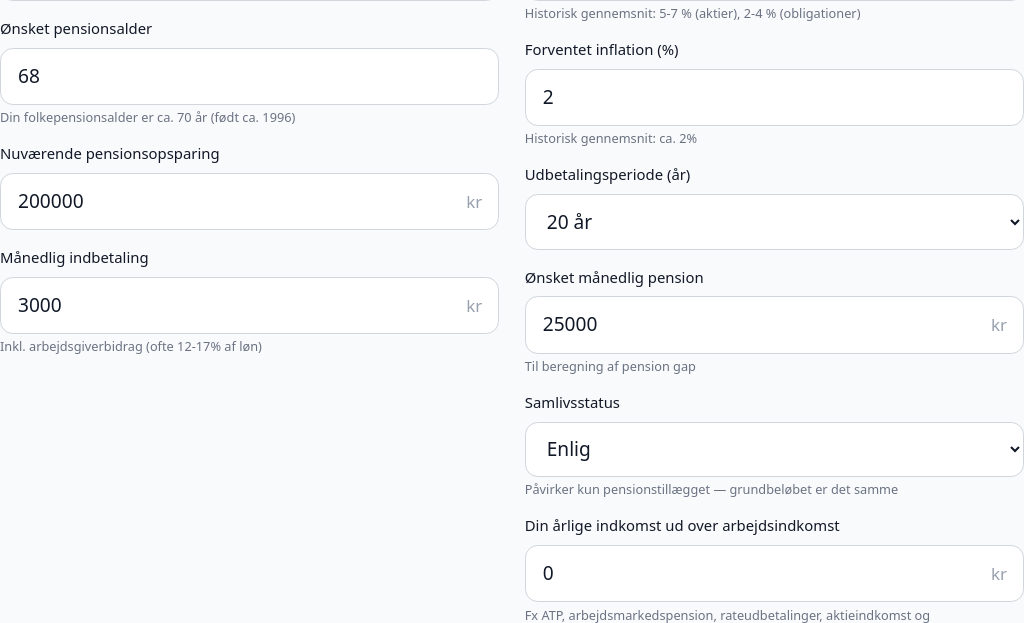
it: PensionBeregner — pensionstillæg efter indkomst › regner hele samleverens indkomst med, når samleveren er pensionist
Select "Gift eller samlevende" in the dropdown labelled "Samlivsstatus" at [774, 449], box [525,422,1023,477]
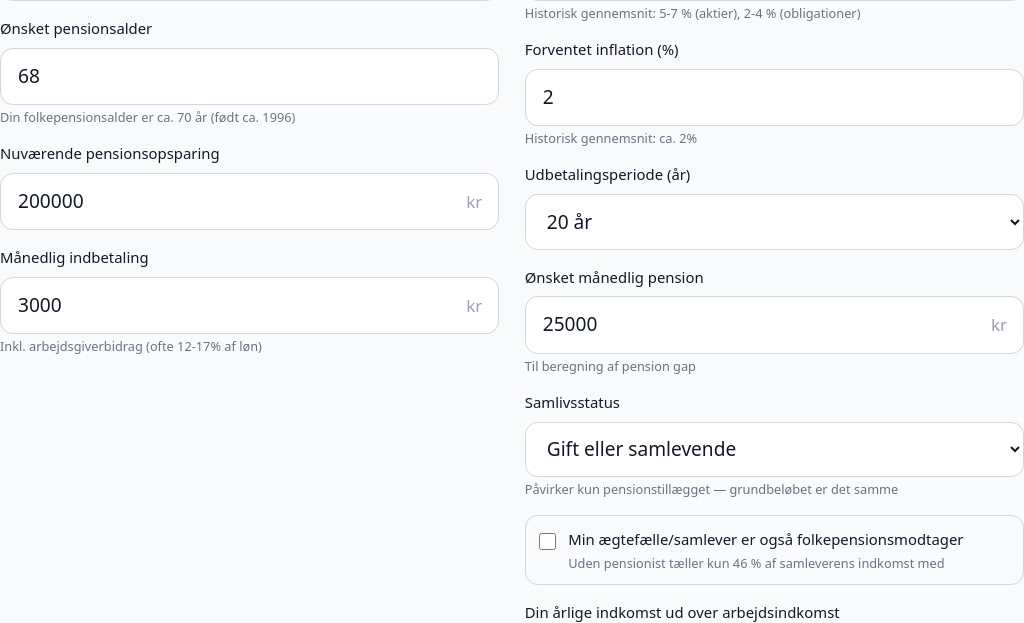
Click the checkbox at [547, 542], box [538,533,556,550]
(page scrolled)
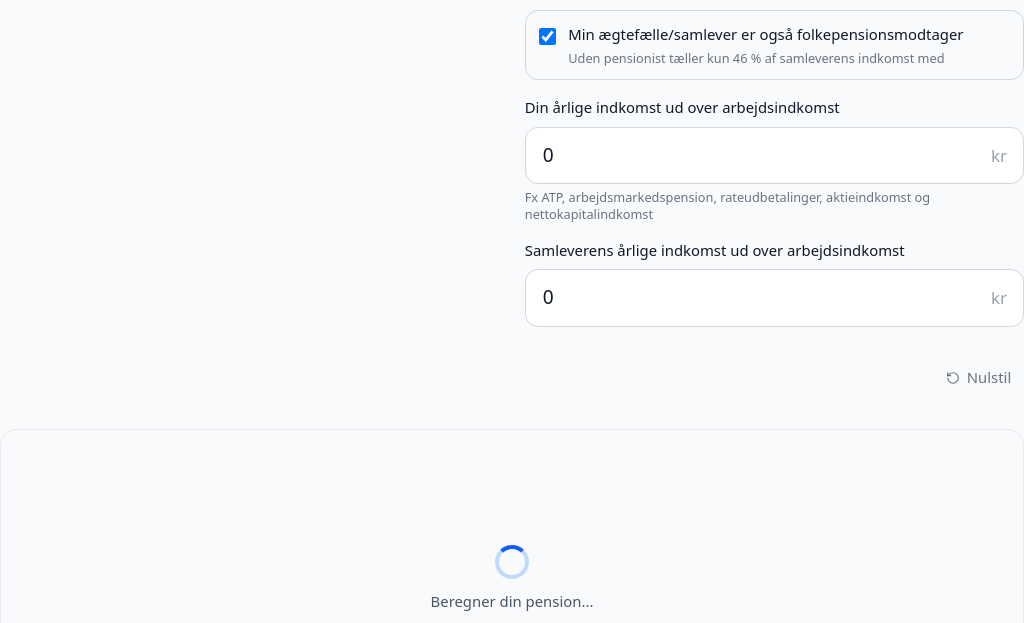
Replace the text in the number field labelled "Samleverens årlige indkomst ud over arbejdsindkomst" with "200000" at [774, 298], box [525,269,1023,327]
(page scrolled)
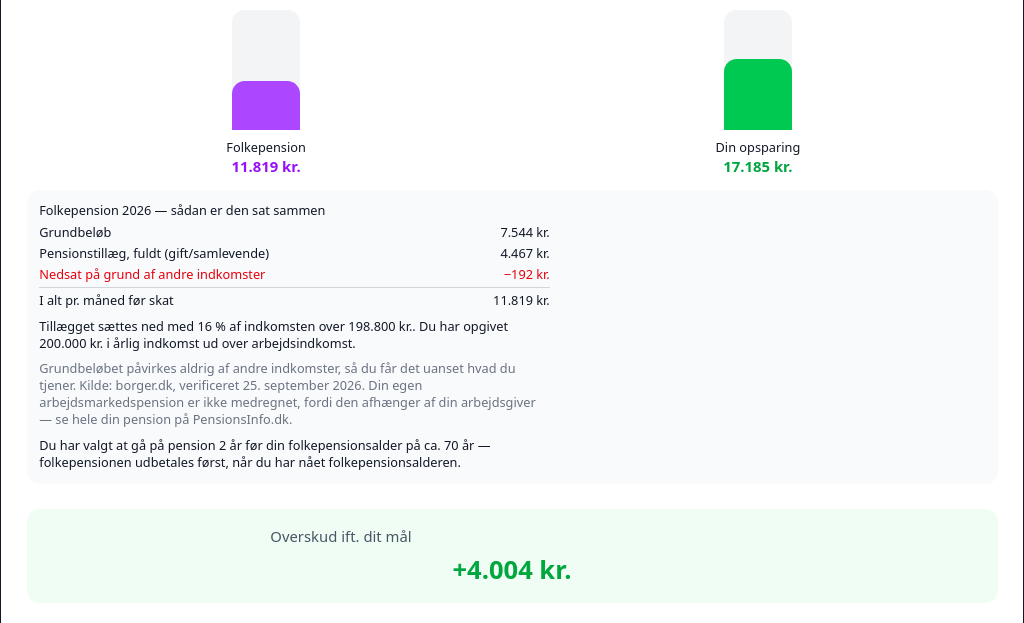
Result: the list item "I alt pr. måned før skat" reads "I alt pr. måned før skat 11.819 kr." at [493,292,550,310]
